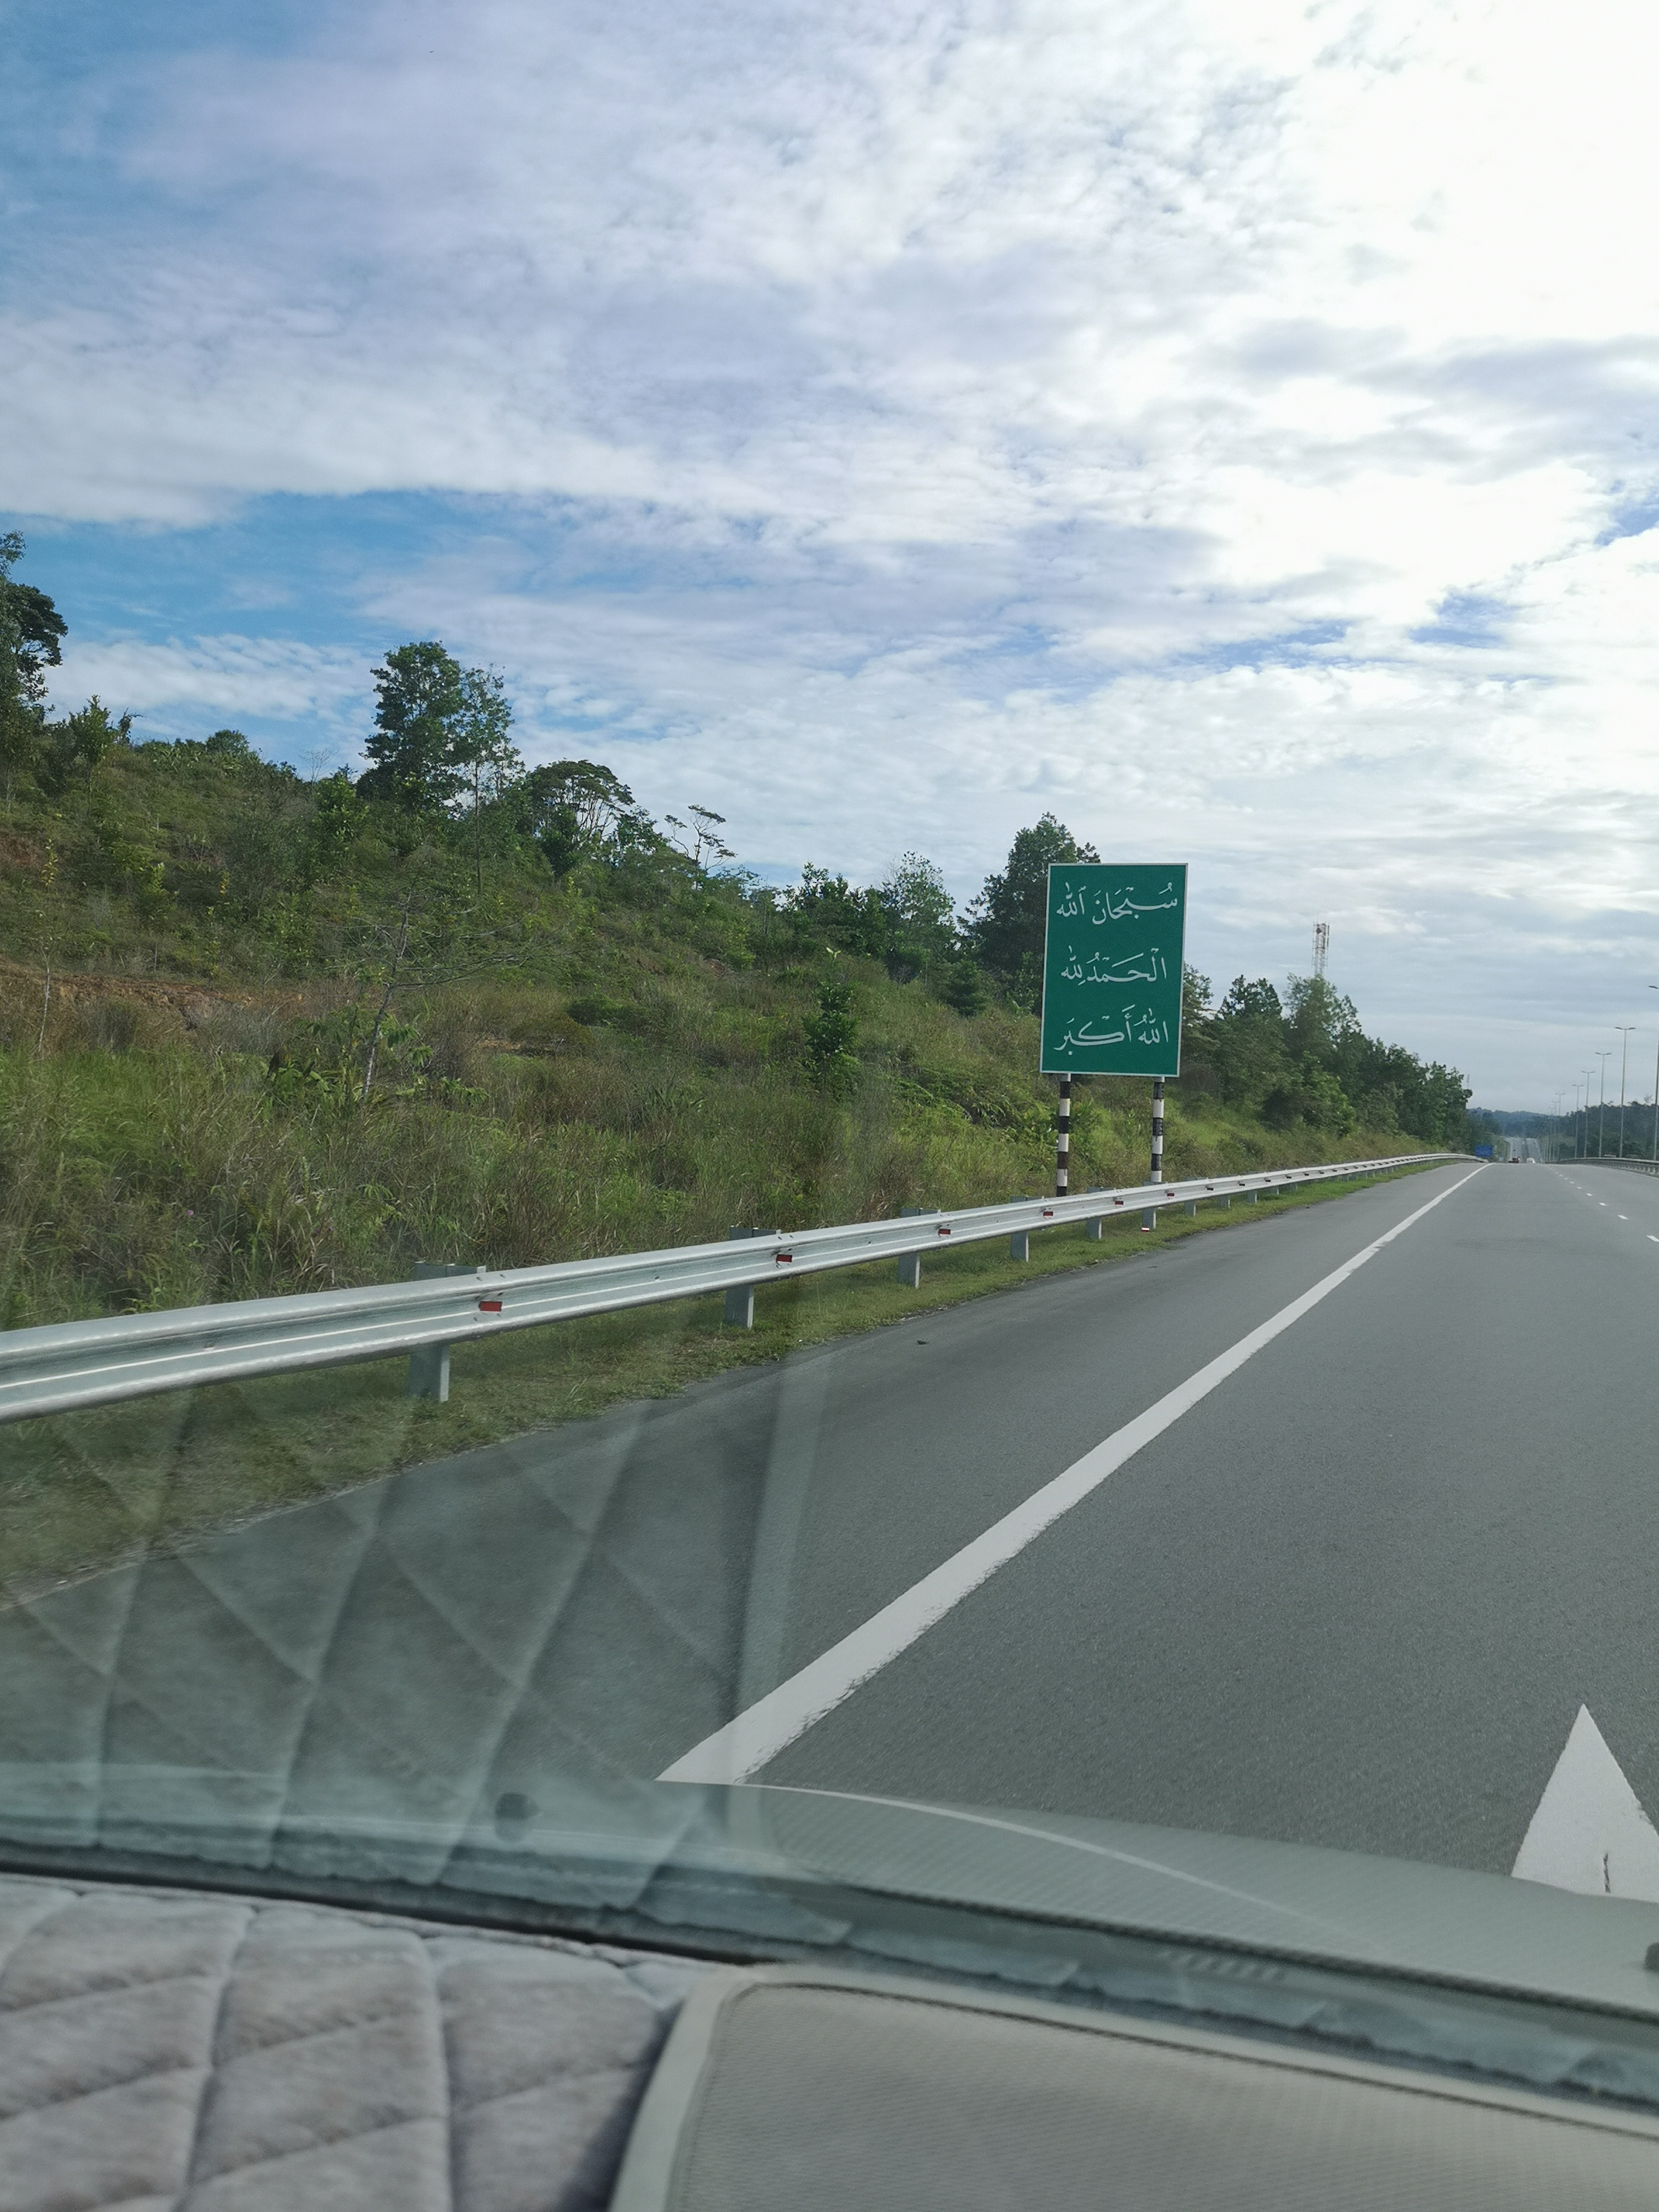All priase belong to Allah: (1037, 934, 1197, 995)
Allah is free from Imprefection: (1042, 860, 1192, 941)
Allah is the Greatest: (1039, 1008, 1180, 1068)
